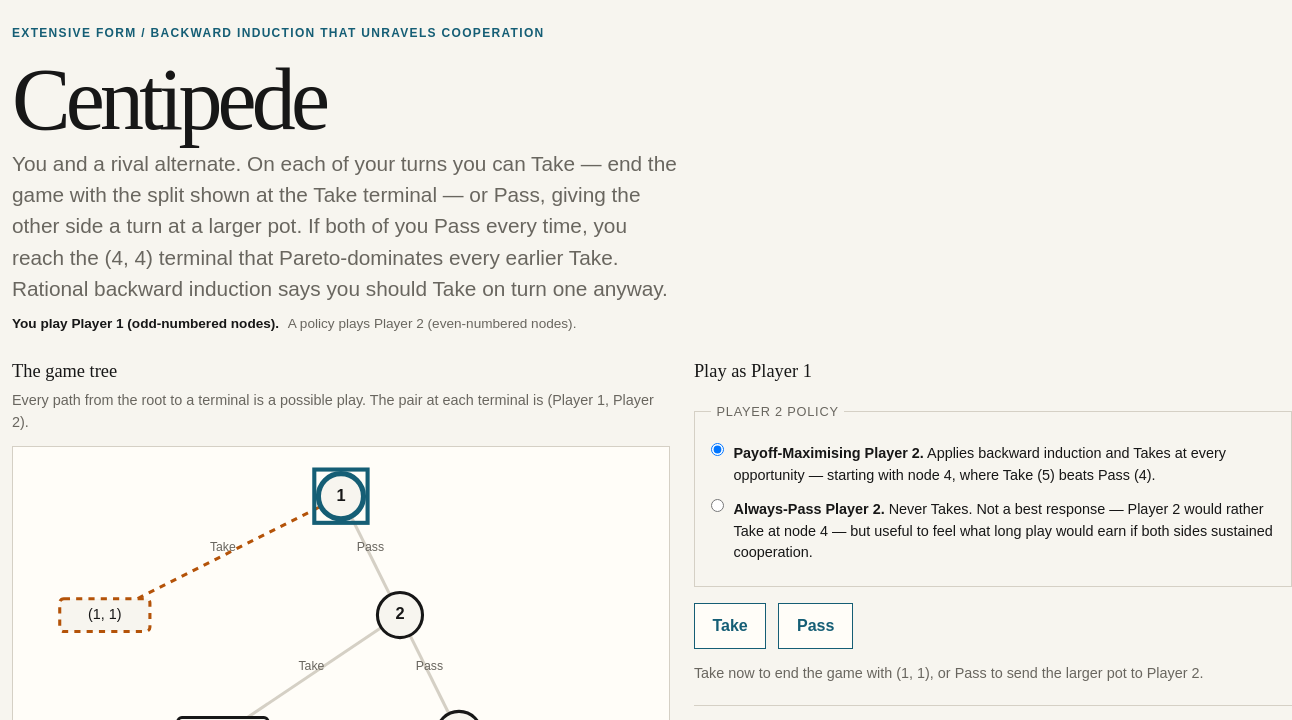
Test: extensive-form play surface — centipede › passing against the SPNE-taker gives Player 2 the Take at node-2 for (0, 3)
The width and height of the screenshot is (1292, 720).
Step 1. Click the button "Pass" → (816, 626), box [778,603,853,649]
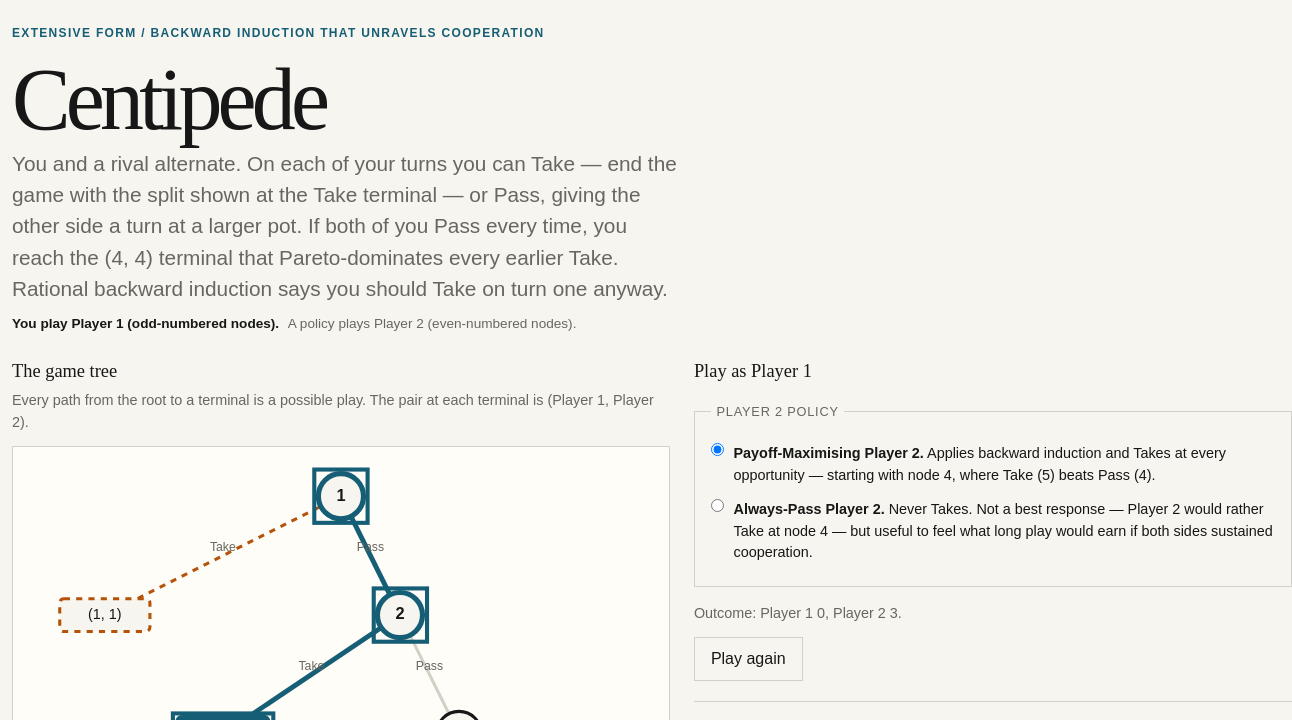
Check: the text "Outcome: Player 1 0, Player 2 3." is shown, box [694,605,902,621]
